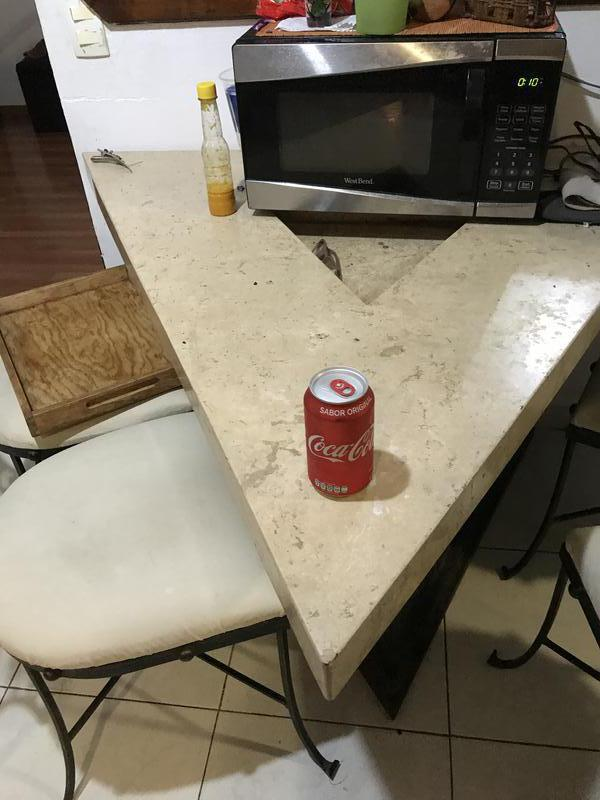coca_cola: (300, 372, 376, 497)
